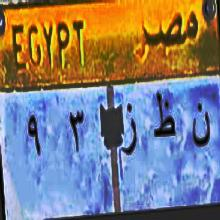3: (62, 104, 89, 162)
9: (24, 107, 47, 170)
Thaa: (150, 82, 178, 157)
noon: (186, 98, 212, 160)
zay: (122, 99, 141, 170)
